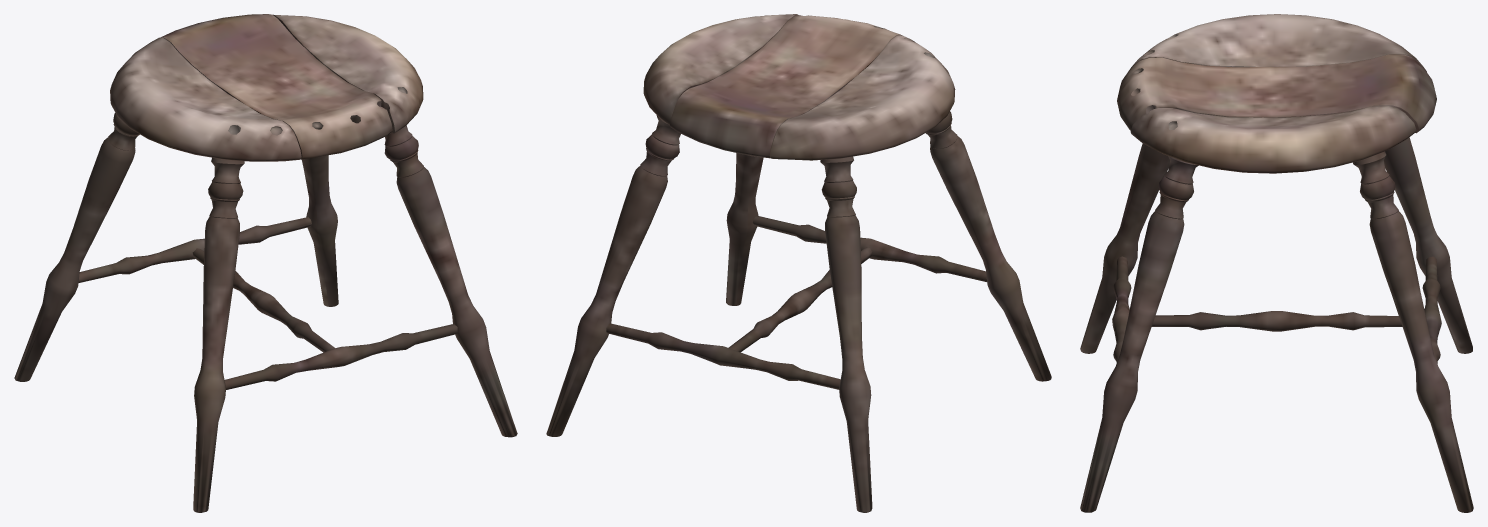
Rendered from ph-wooden-stool-01.glb.
3 views of the same model, side by side, from view 1: azimuth 30°, elevation 25°; view 2: azimuth 150°, elevation 25°; view 3: azimuth 270°, elevation 25° (orthographic). The views are drawn at different scales.
Parts seen in each view (by area): view 1: wooden_stool_01; view 2: wooden_stool_01; view 3: wooden_stool_01.
Boxes of the visible parts, x1,y1,x2,y2 form: wooden_stool_01: (14,14,517,512); wooden_stool_01: (546,14,1051,512); wooden_stool_01: (1080,14,1473,512).
Bounding box in the file's own units: 0.9991 × 1 × 1.
1 material, 1 textured.
